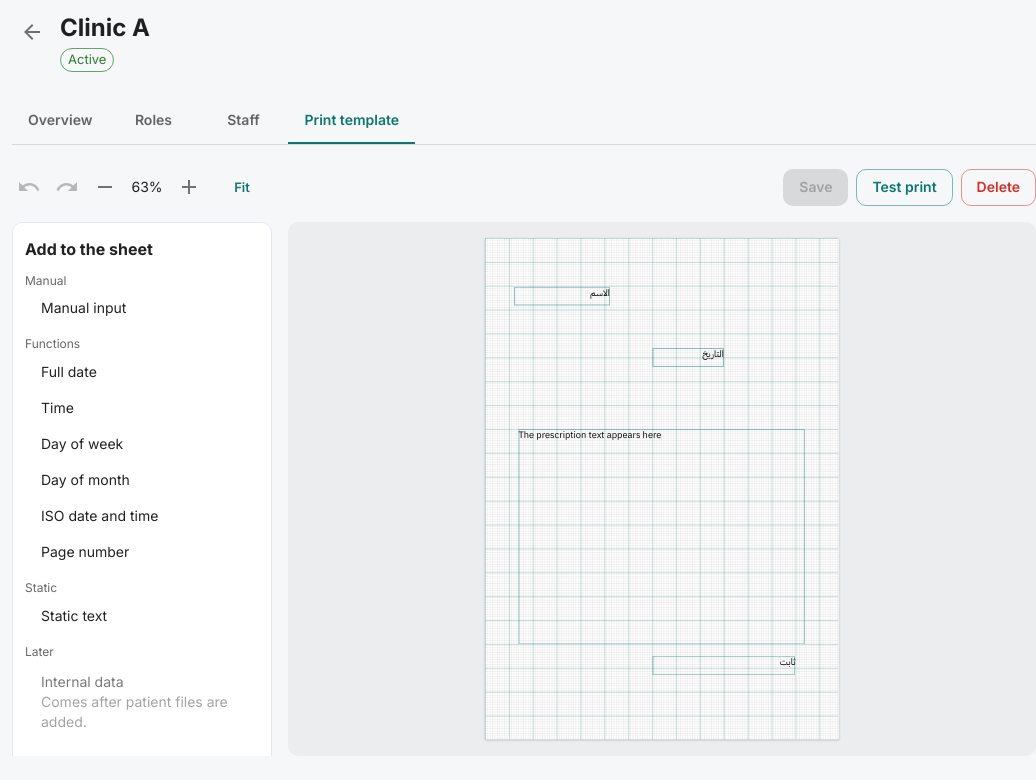
Test: print template keys: moving the selected item @area:admin › ArrowRight with {}: from its current value, in tenths, on the sheet and in the fields; the other items stay @TPL-440 @smoke
Click the button "الاسم": (562,296) [515, 286, 610, 305]
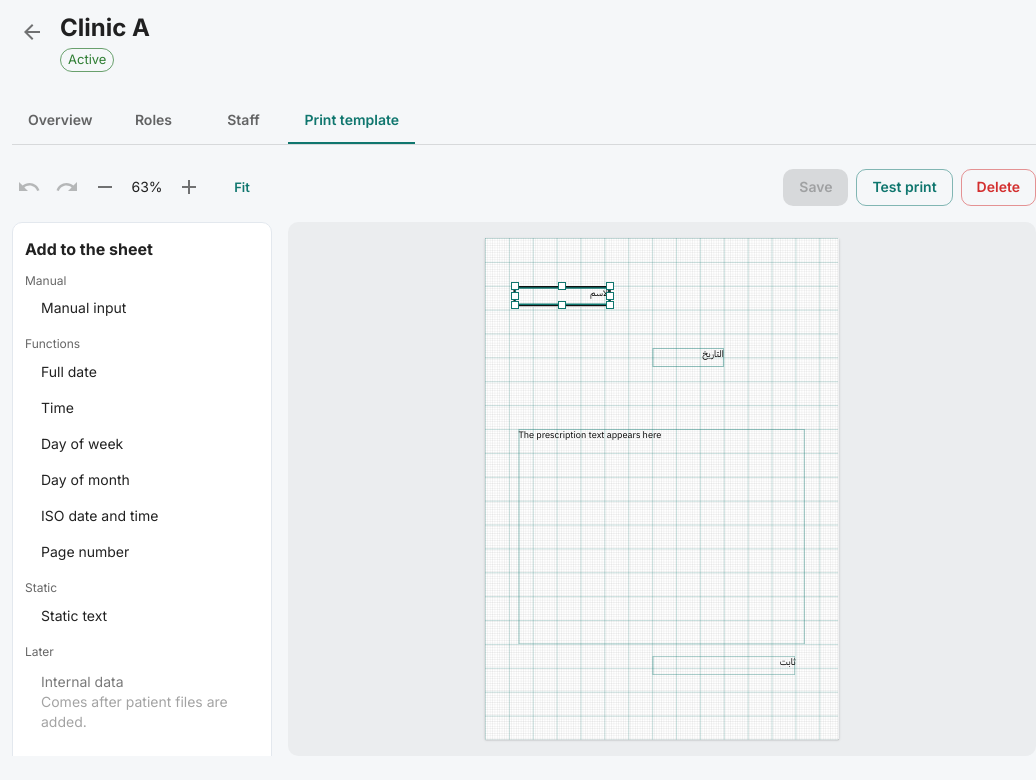
Press ArrowRight in the button "الاسم", box [515, 286, 610, 305]
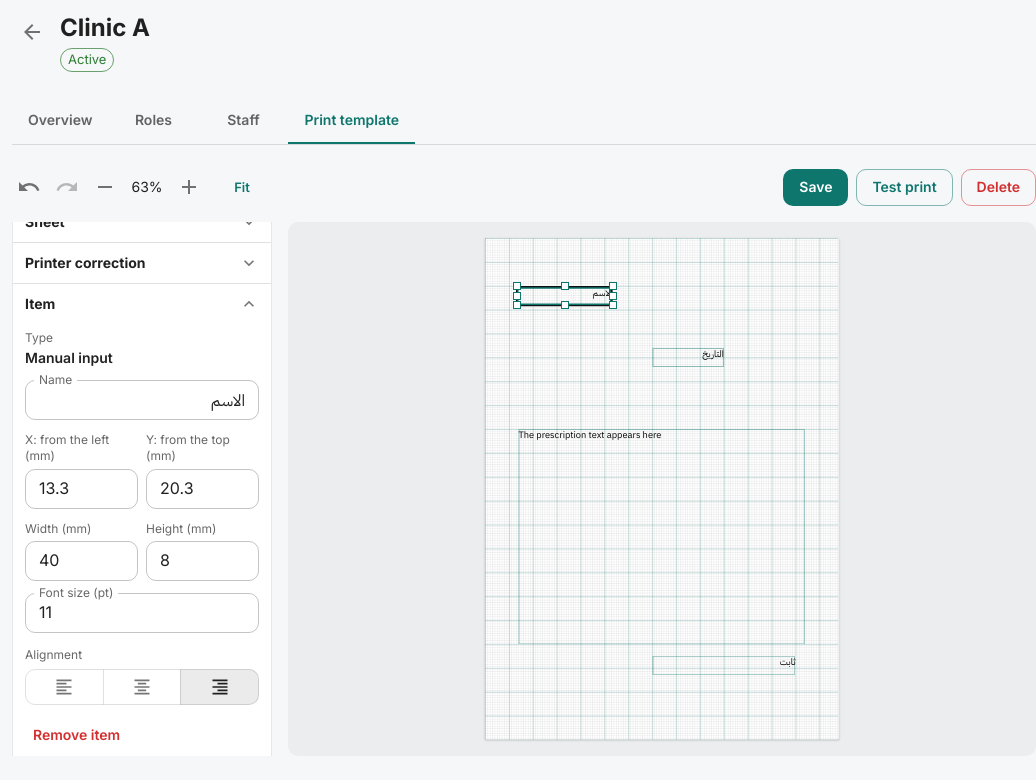
Expected: the field labelled "X: from the left (mm)" holds "13.3", [25, 469, 138, 509]
Expected: the field labelled "Y: from the top (mm)" holds "20.3", [146, 469, 259, 509]
